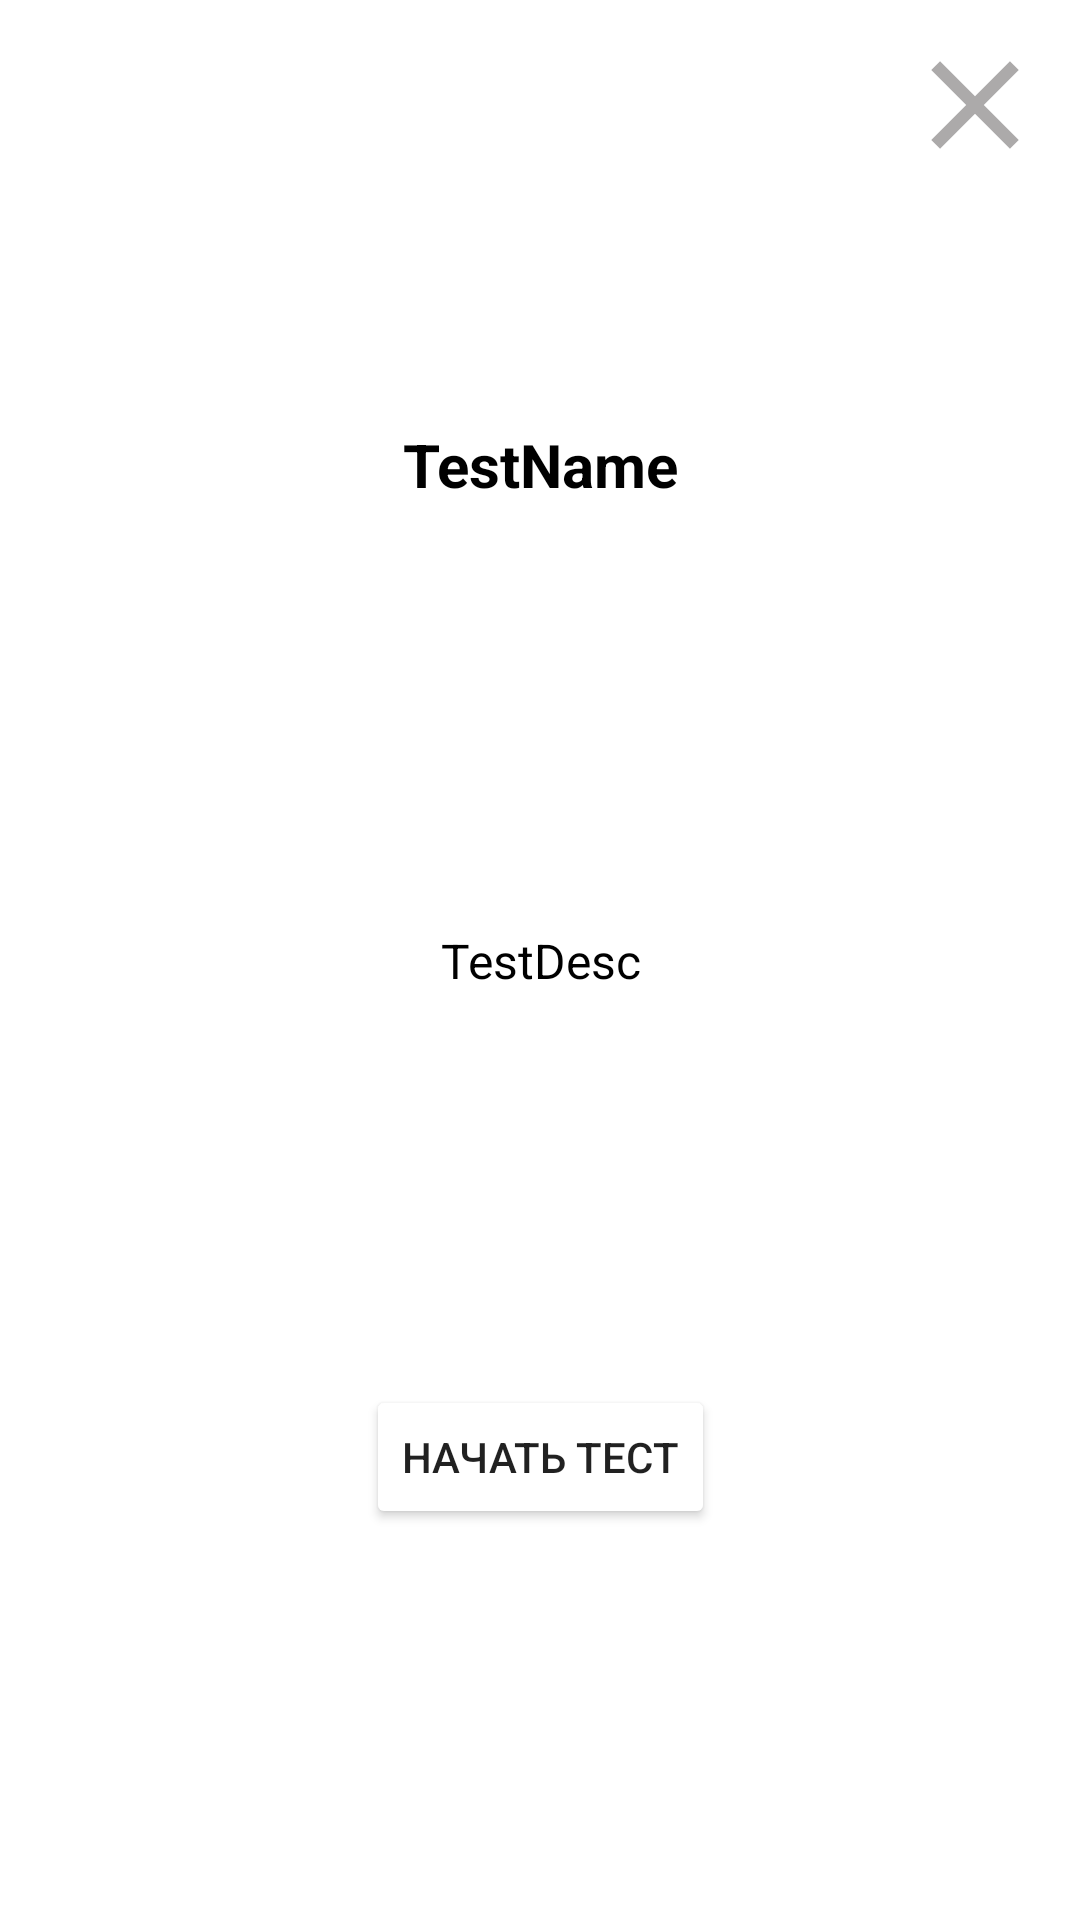

Icons on this 1080w x 1920h Android screen, each with the point to tap as (x,y):
close: (975,105)
